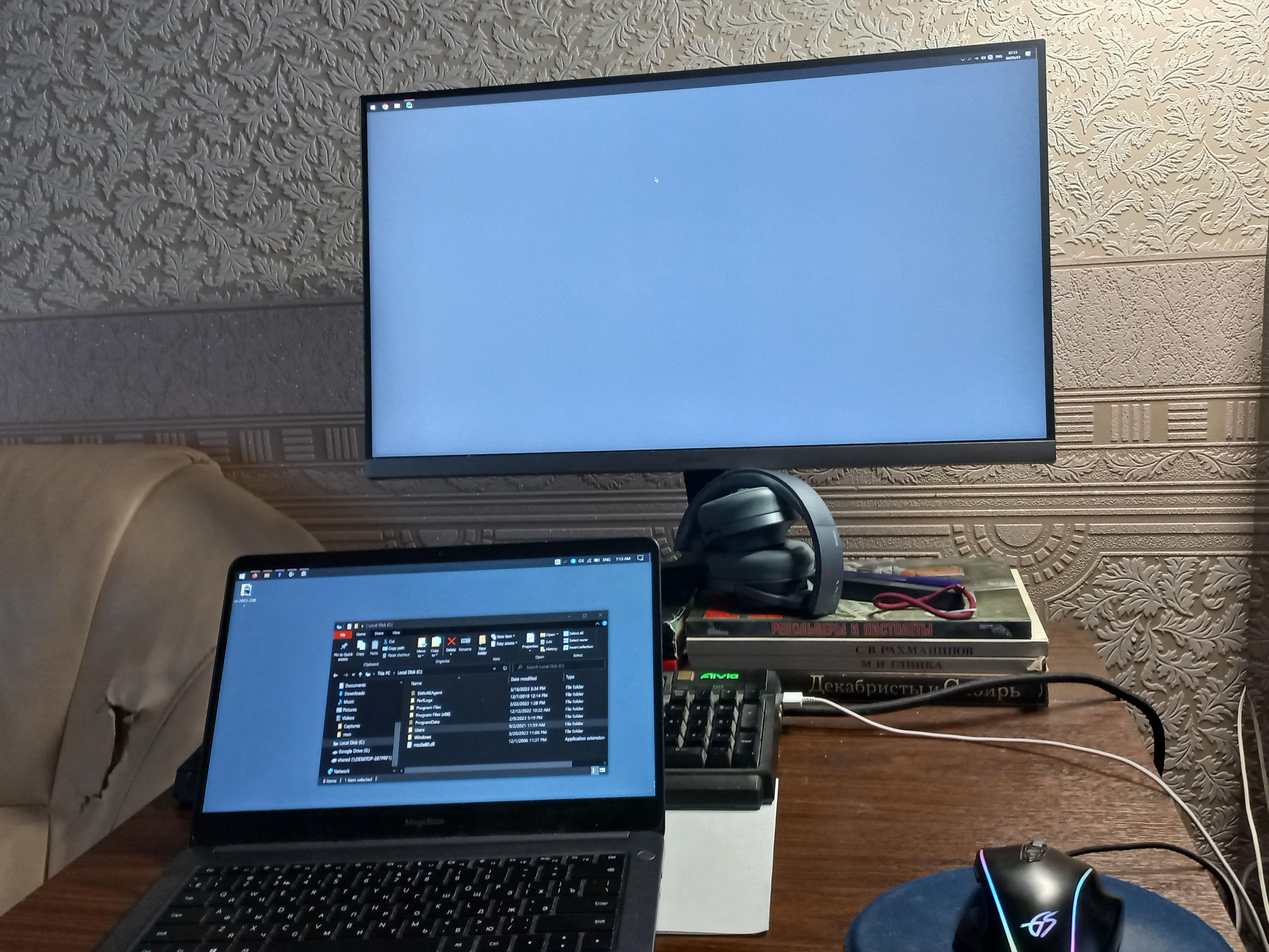monitor: (347, 36, 1074, 631), (196, 535, 674, 839)
